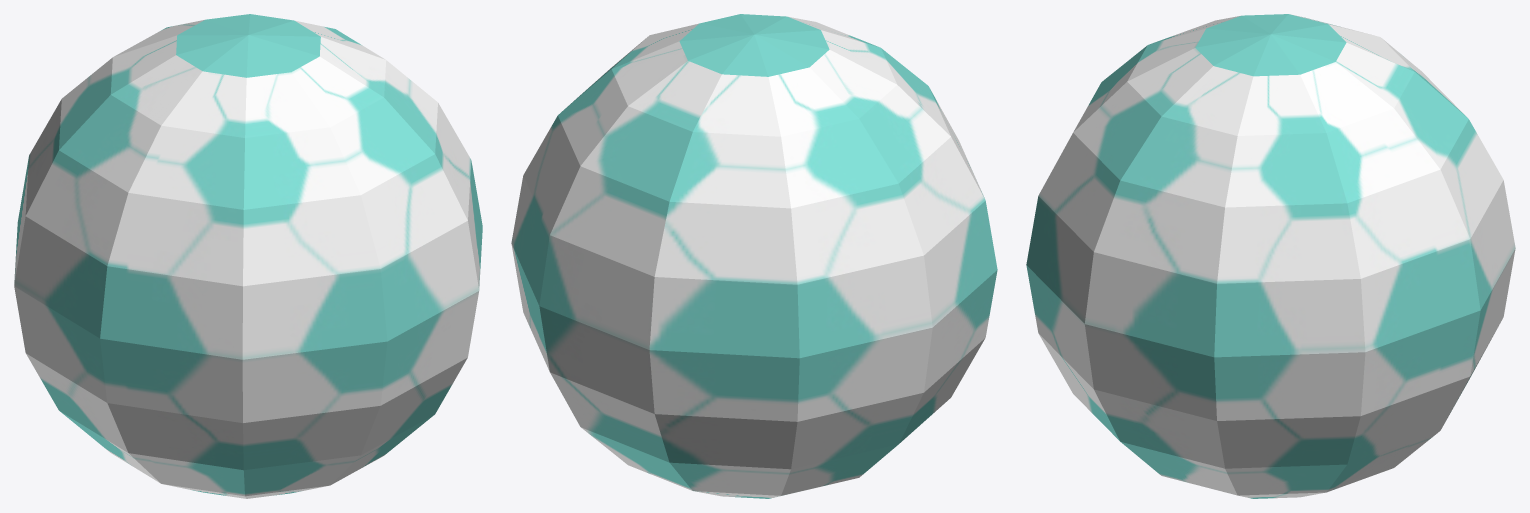
File: ballFBX.fbx
3 views of the same model, side by side, from view 1: azimuth 30°, elevation 25°; view 2: azimuth 150°, elevation 25°; view 3: azimuth 270°, elevation 25° (orthographic).
Parts seen in each view (by area): view 1: pSphere1; view 2: pSphere1; view 3: pSphere1.
Boxes of the visible parts, left/top/right/bottom form: pSphere1: left=14, top=14, right=482, bottom=498; pSphere1: left=511, top=14, right=997, bottom=498; pSphere1: left=1026, top=14, right=1515, bottom=498.
Size of the model in its own units: 3.23 by 3.32 by 3.31.
